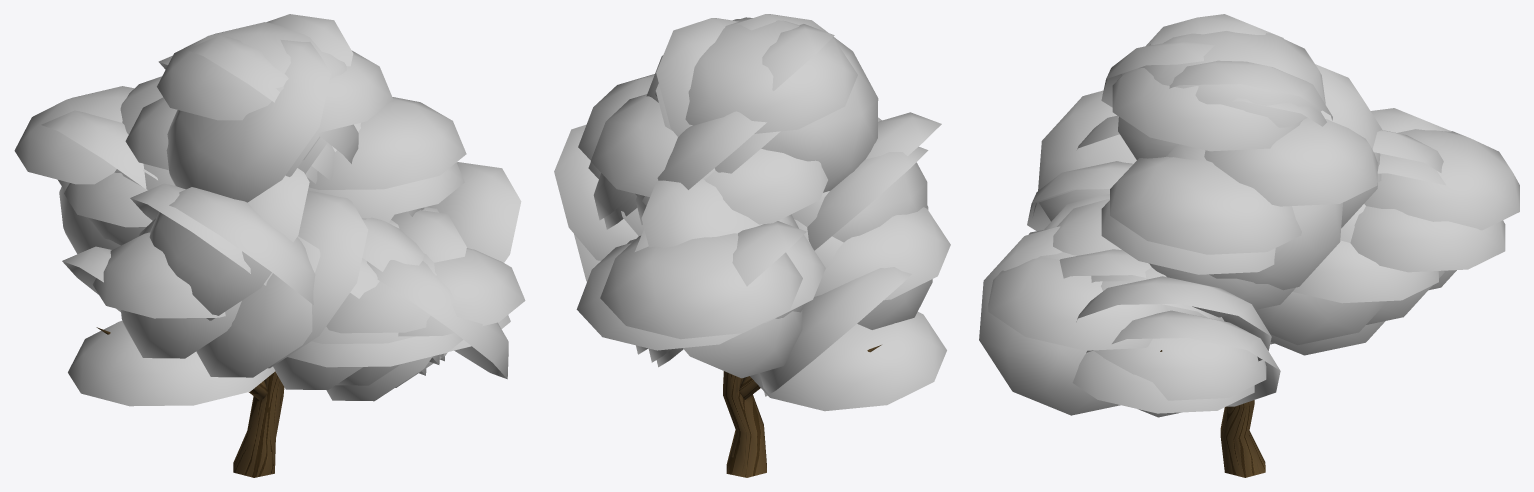
Rendered from Quercus Test.fbx.
3 renders of one model, left to right at view 1: azimuth 30°, elevation 25°; view 2: azimuth 150°, elevation 25°; view 3: azimuth 270°, elevation 25°, orthographic. The views are drawn at different scales.
Visible parts, largest first — view 1: Quercus tree curve; view 2: Quercus tree curve; view 3: Quercus tree curve.
Part boxes in pixels (x1=…): Quercus tree curve: x1=14, y1=14, x2=525, y2=477; Quercus tree curve: x1=554, y1=14, x2=950, y2=477; Quercus tree curve: x1=979, y1=14, x2=1519, y2=477.
Bounding box in the file's own units: 120 × 128 × 145.
